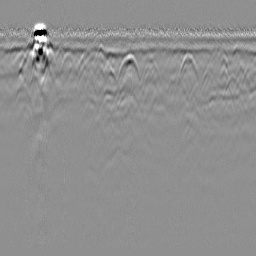cavity: (115, 51, 141, 86)
